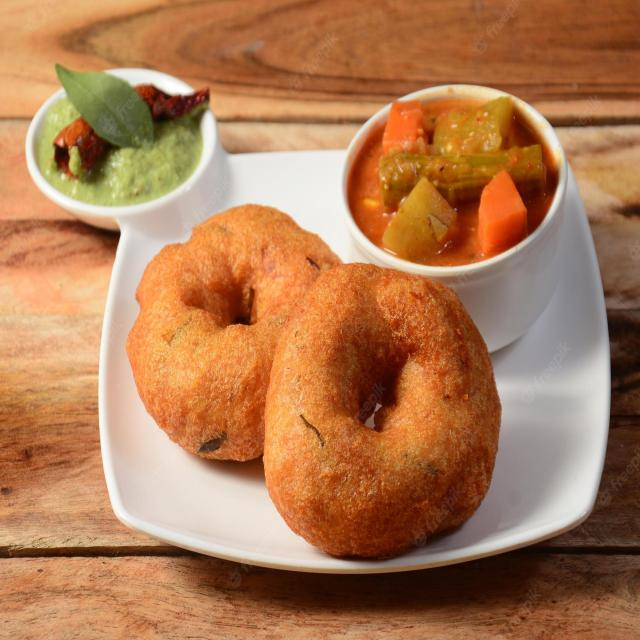GREEN CHUTNEY: (38, 109, 200, 203)
SAMBAR: (341, 92, 557, 271)
VADA: (127, 199, 502, 564)
